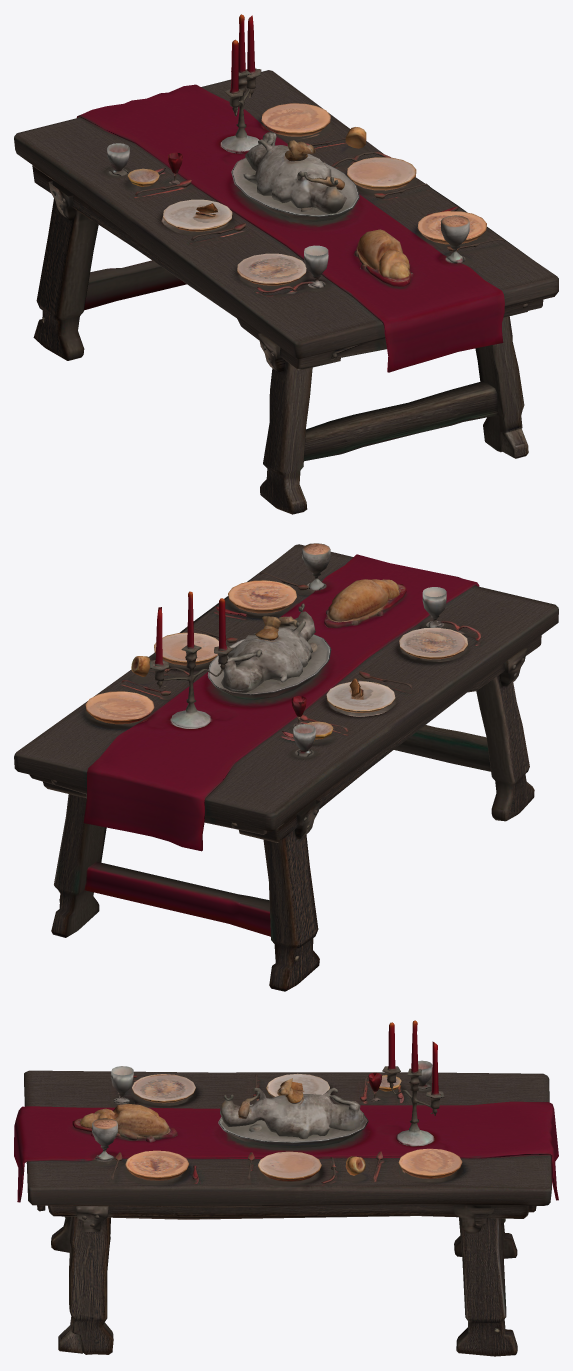
File: tavolo_banchetto.glb
3 renders of one model, top to bottom at view 1: azimuth 30°, elevation 25°; view 2: azimuth 150°, elevation 25°; view 3: azimuth 270°, elevation 25°, orthographic. The views are drawn at different scales.
Parts seen in each view (by area): view 1: tavolo_banchetto; view 2: tavolo_banchetto; view 3: tavolo_banchetto.
Boxes of the visible parts, box(x1,y1,x2,y2) form: tavolo_banchetto: box(14, 14, 558, 514); tavolo_banchetto: box(14, 543, 558, 991); tavolo_banchetto: box(14, 1020, 558, 1356).
Bounding box in the file's own units: 0.5142 × 0.606 × 0.9995.
1 material, 1 textured.
